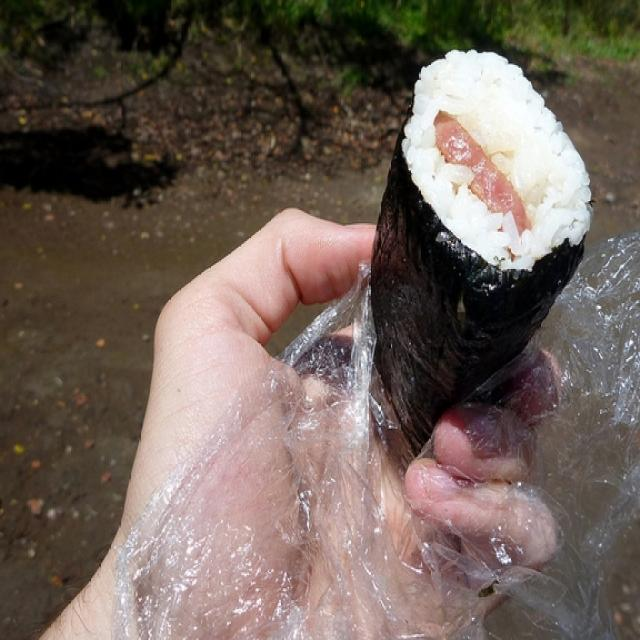寿司卷物: (363, 50, 591, 442)
